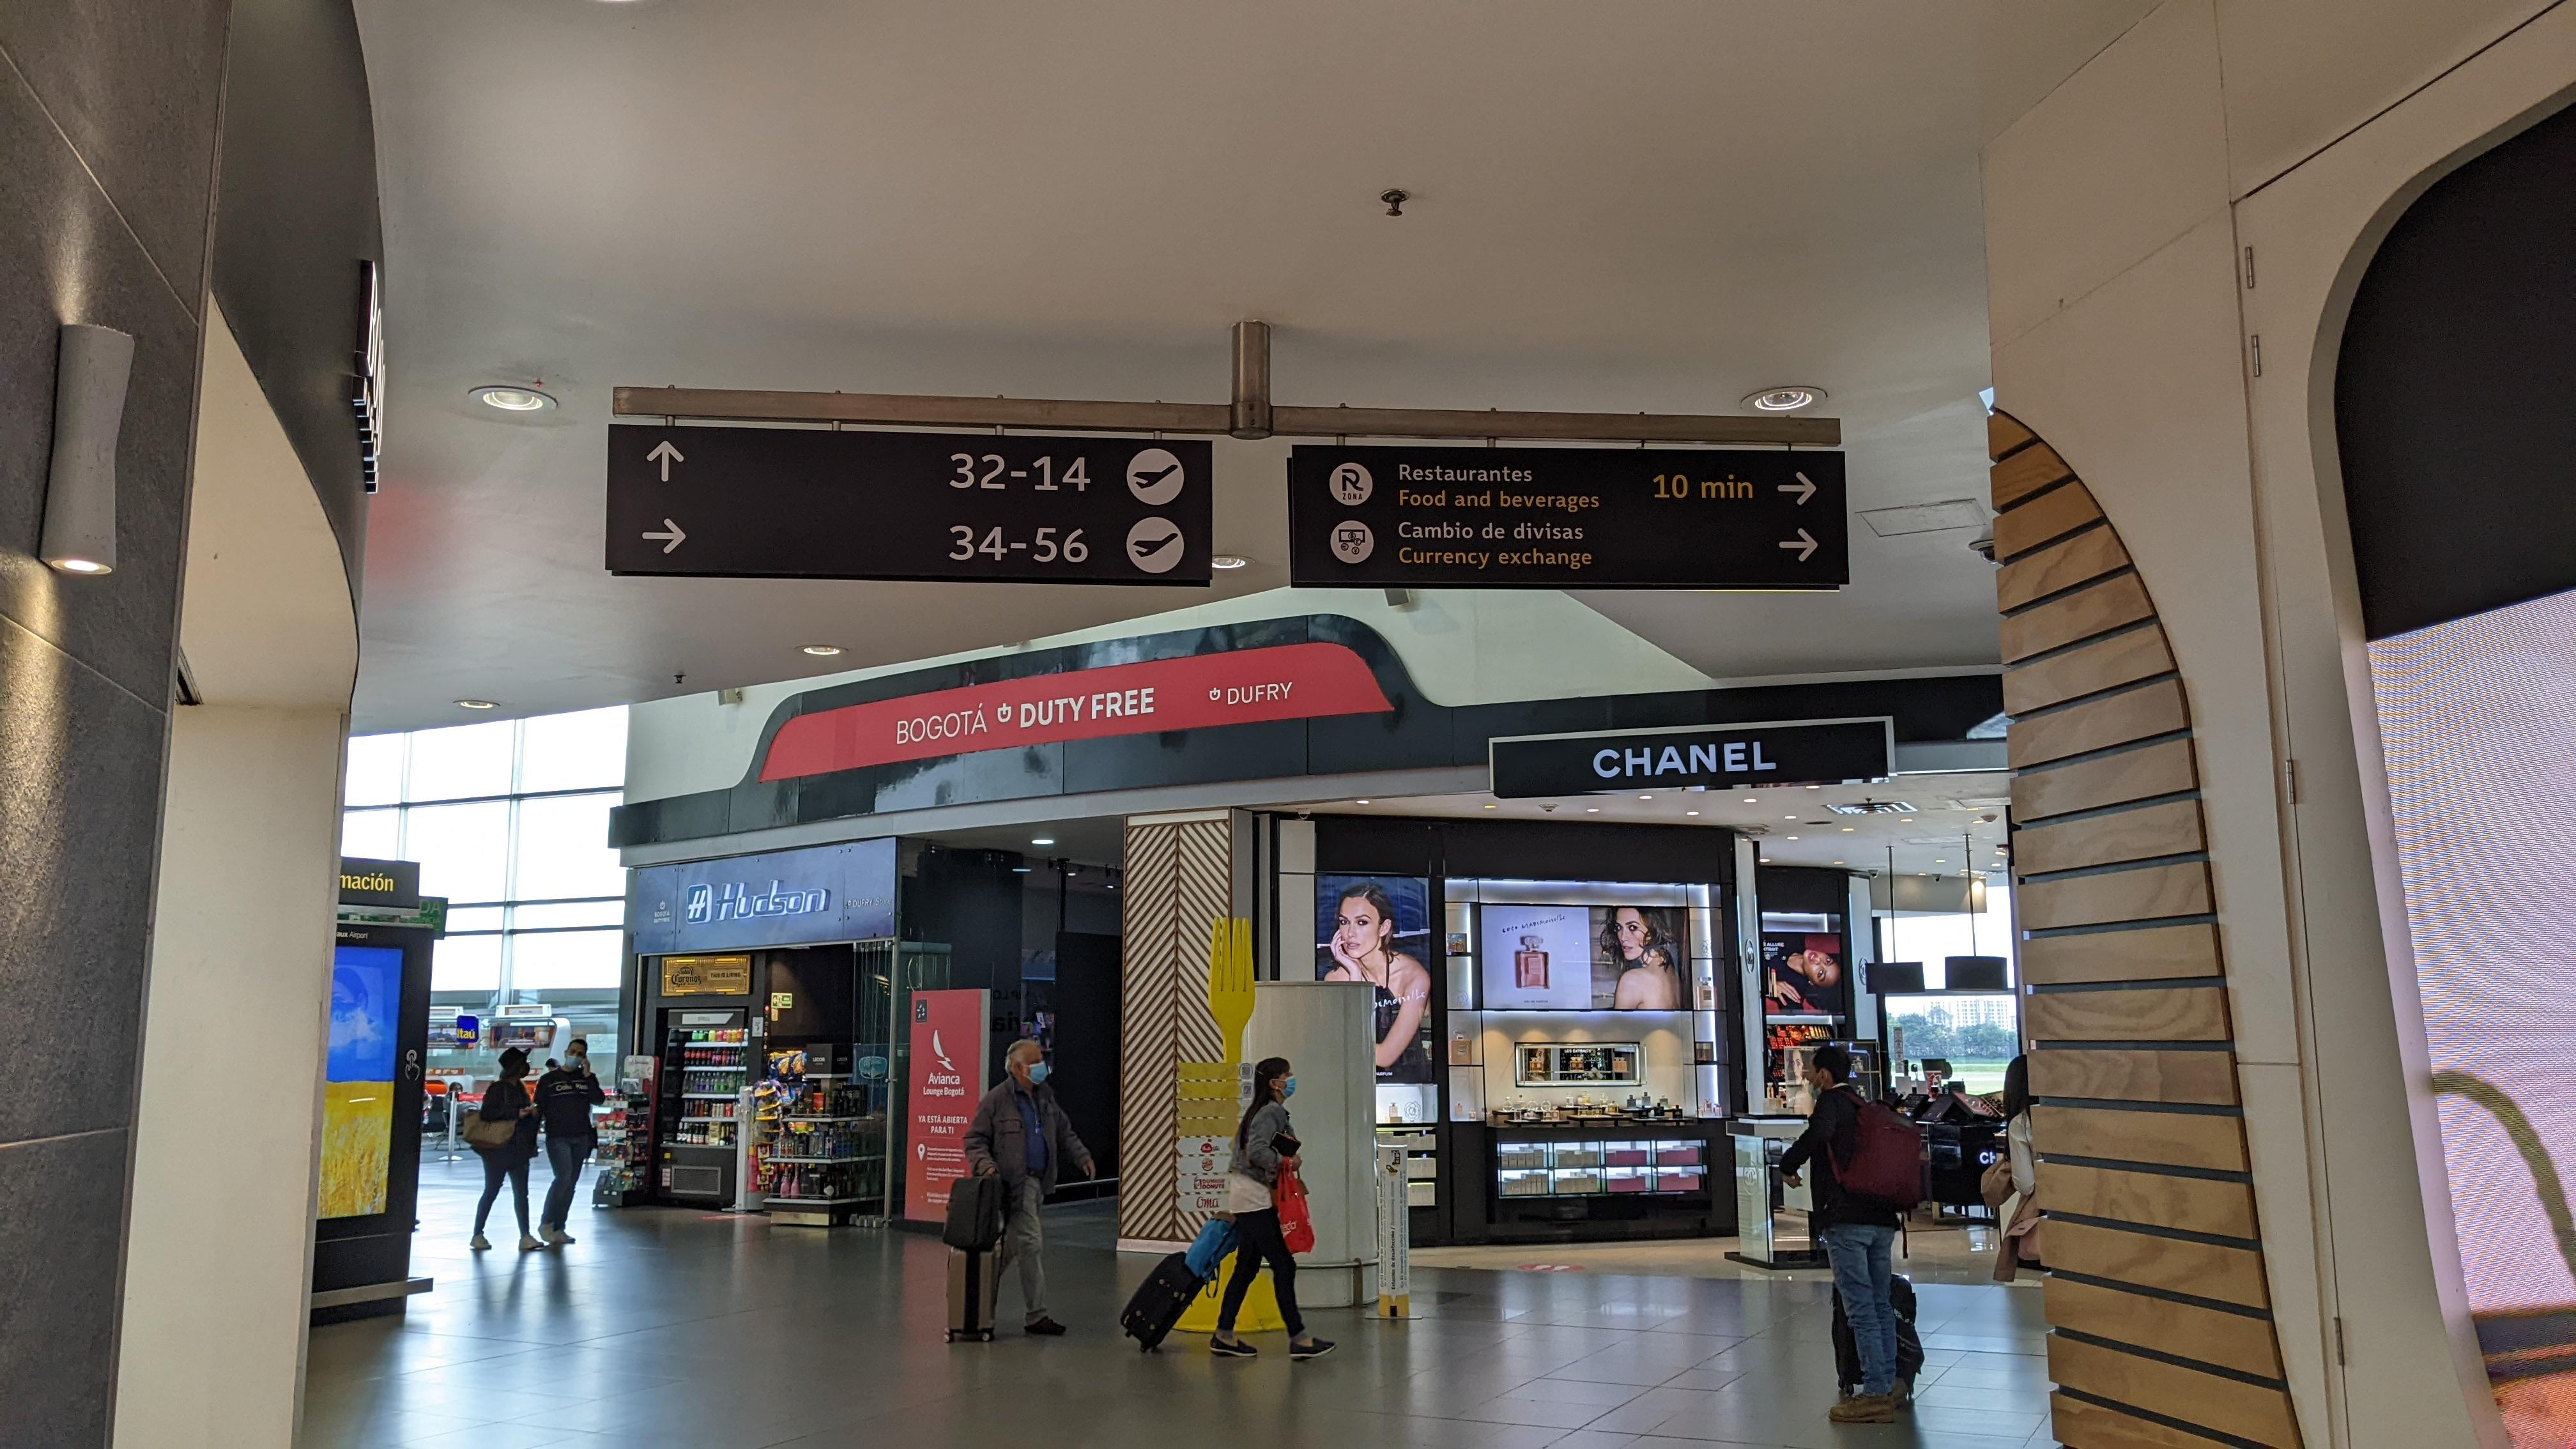airplane symbol: (1132, 529, 1180, 559), (1132, 464, 1180, 492)
right arrow: (640, 517, 688, 556)
thin right arrow: (1775, 525, 1822, 563), (1775, 471, 1819, 506)
up arrow: (644, 439, 690, 485)
